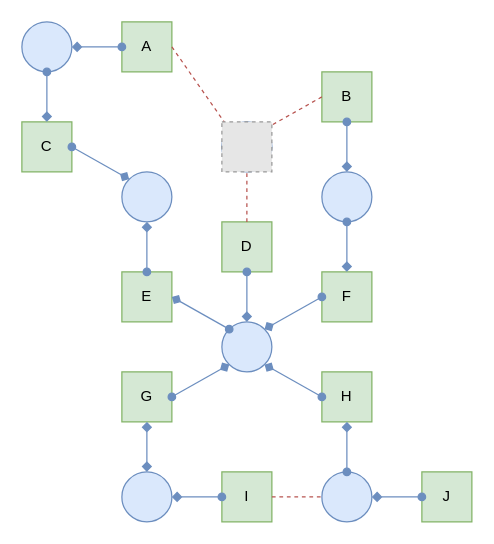
The diagram is 494 pixels wide and 544 high, and some of its shapes have lost their labels. Grey dashed boxes stand in for pictures. Here are the shapes that lost their labels. From the top down, the centre of each, then its label:
the point at 46,46: B7
the point at 146,196: B2 New Root
the point at 346,196: B3
the point at 246,346: B5
the point at 146,496: B4
the point at 346,496: B6
